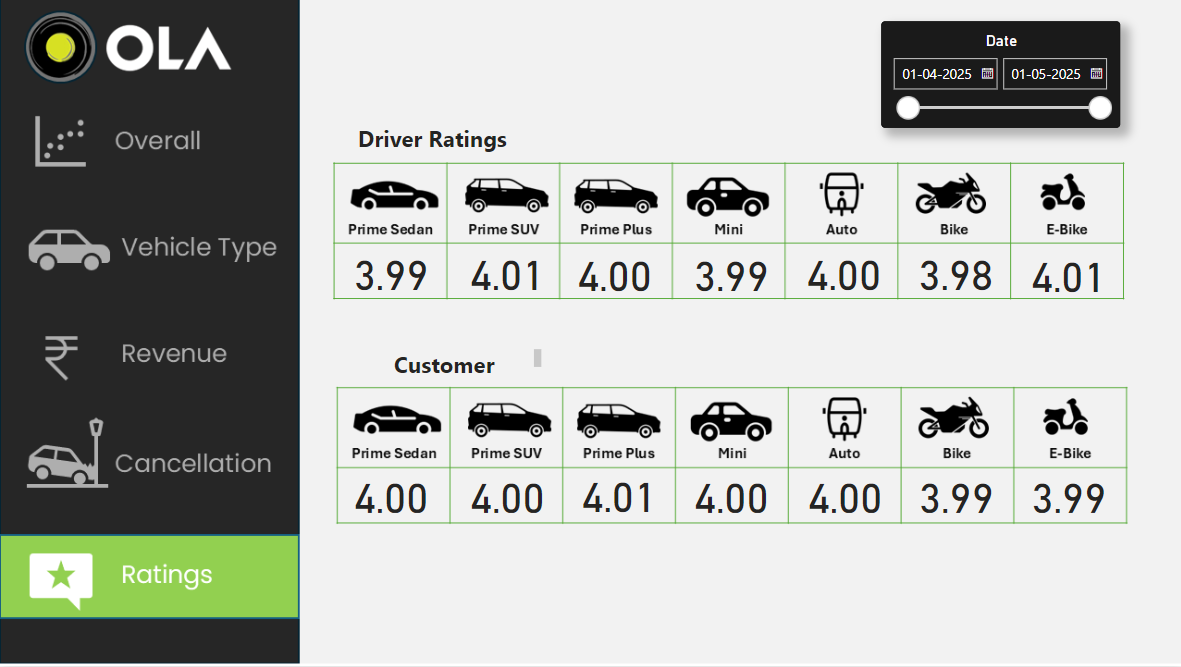

The dashboard page shown, as its layout file describes it:
{"tool":"powerbi","page":{"name":"Ratings","canvas":[1280,720],"ordinal":4},"visuals":[{"type":"actionButton","box":[0,225.6,324.4,88.4],"z":0},{"type":"actionButton","box":[0,337.2,324.4,88.4],"z":1000},{"type":"actionButton","box":[0,452.3,324.4,88.4],"z":2000},{"type":"actionButton","box":[0,110.5,324.4,88.4],"z":3000},{"type":"card","fields":{"Values":["Avg(Bookings.Driver_Ratings)"]},"box":[371.2,267.5,102.5,51.2],"z":4000},{"type":"card","fields":{"Values":["Avg(Bookings.Driver_Ratings)"]},"box":[493.8,262.5,110,61.2],"z":5000},{"type":"card","fields":{"Values":["Avg(Bookings.Driver_Ratings)"]},"box":[603.8,263.8,121.2,61.2],"z":6000},{"type":"card","fields":{"Values":["Avg(Bookings.Driver_Ratings)"]},"box":[735,263.8,111.2,61.2],"z":7000},{"type":"card","fields":{"Values":["Avg(Bookings.Driver_Ratings)"]},"box":[858.8,262.5,108.8,61.2],"z":8000},{"type":"card","fields":{"Values":["Avg(Bookings.Driver_Ratings)"]},"box":[978.8,262.5,110,61.2],"z":9000},{"type":"card","fields":{"Values":["Avg(Bookings.Driver_Ratings)"]},"box":[1100,265,110,61.2],"z":10000},{"type":"card","fields":{"Values":["Avg(Bookings.Customer_Rating)"]},"box":[371.2,507.5,102.5,51.2],"z":11000},{"type":"card","fields":{"Values":["Avg(Bookings.Customer_Rating)"]},"box":[497.5,507.5,102.5,51.2],"z":12000},{"type":"card","fields":{"Values":["Avg(Bookings.Customer_Rating)"]},"box":[621.2,502.5,95,61.2],"z":13000},{"type":"card","fields":{"Values":["Avg(Bookings.Customer_Rating)"]},"box":[743.8,507.5,95,51.2],"z":14000},{"type":"card","fields":{"Values":["Avg(Bookings.Customer_Rating)"]},"box":[866.2,507.5,95,51.2],"z":15000},{"type":"card","fields":{"Values":["Avg(Bookings.Customer_Rating)"]},"box":[986.2,507.5,95,51.2],"z":16000},{"type":"card","fields":{"Values":["Avg(Bookings.Customer_Rating)"]},"box":[1107.5,508.8,95,51.2],"z":17000},{"type":"textbox","box":[357.5,126.2,218.8,47.5],"z":18000},{"type":"textbox","box":[371.2,370,218.8,47.5],"z":19000},{"type":"slicer","title":"Date","fields":{"Values":["Bookings.Date"]},"box":[952.5,22.5,258.8,115],"z":20000}]}

Visuals, with their boxes in screenshot pixels (x1, y1, x2, y2), scaled from the page's 1280x720 canvas onto the 1181x667 screenshot:
actionButton: box=[0, 209, 299, 291]
actionButton: box=[0, 312, 299, 394]
actionButton: box=[0, 419, 299, 501]
actionButton: box=[0, 102, 299, 184]
card - Avg(Bookings.Driver_Ratings): box=[342, 248, 437, 295]
card - Avg(Bookings.Driver_Ratings): box=[456, 243, 557, 300]
card - Avg(Bookings.Driver_Ratings): box=[557, 244, 669, 301]
card - Avg(Bookings.Driver_Ratings): box=[678, 244, 781, 301]
card - Avg(Bookings.Driver_Ratings): box=[792, 243, 893, 300]
card - Avg(Bookings.Driver_Ratings): box=[903, 243, 1005, 300]
card - Avg(Bookings.Driver_Ratings): box=[1015, 245, 1116, 302]
card - Avg(Bookings.Customer_Rating): box=[342, 470, 437, 518]
card - Avg(Bookings.Customer_Rating): box=[459, 470, 554, 518]
card - Avg(Bookings.Customer_Rating): box=[573, 466, 661, 522]
card - Avg(Bookings.Customer_Rating): box=[686, 470, 774, 518]
card - Avg(Bookings.Customer_Rating): box=[799, 470, 887, 518]
card - Avg(Bookings.Customer_Rating): box=[910, 470, 998, 518]
card - Avg(Bookings.Customer_Rating): box=[1022, 471, 1109, 519]
textbox: box=[330, 117, 532, 161]
textbox: box=[342, 343, 544, 387]
"Date" slicer: box=[879, 21, 1118, 127]
